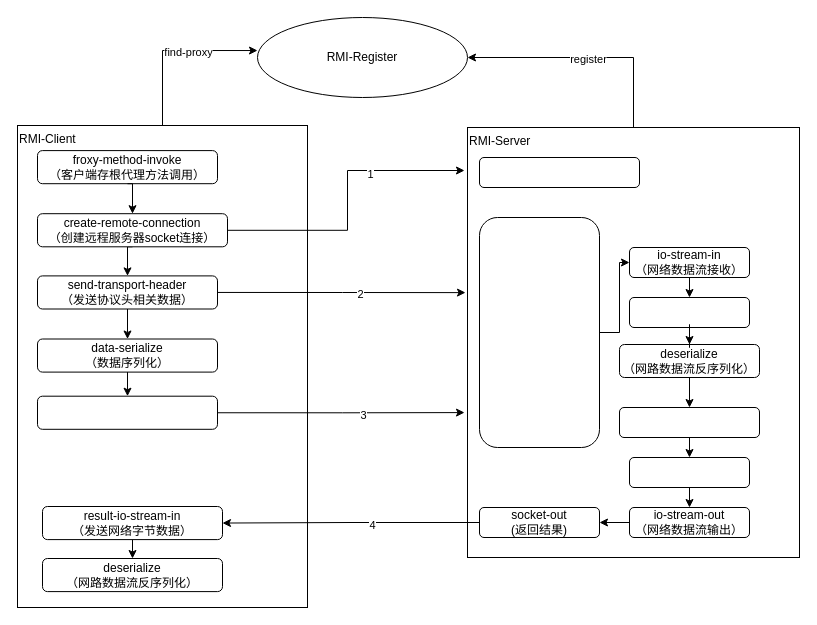
This 817x625 diagram has some shape labels left out. The centre of each missing label's shape, as x and y in pixels:
"connection-handler (网络接收处理)" belongs at (539,332).
"io-stream-out （发送网络字节数据）" belongs at (127,412).
"method-invoke （执行方法逻辑调用）" belongs at (689,422).
"result-serialize （结果序列化）" belongs at (689,472).
"socket-connection-listener (网络连接监听)" belongs at (559,172).
"transport （协议解析）" belongs at (689,312).
